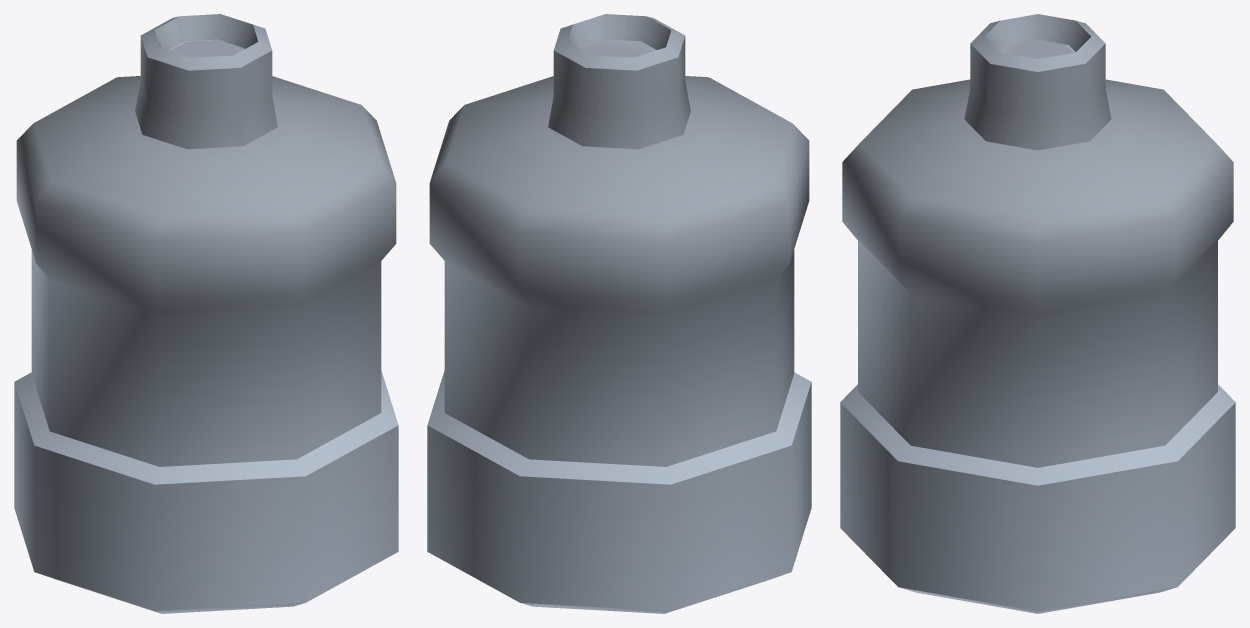
File: Water Tanks.fbx
3 renders of one model, left to right at view 1: azimuth 30°, elevation 25°; view 2: azimuth 150°, elevation 25°; view 3: azimuth 270°, elevation 25°, orthographic.
Parts seen in each view (by area): view 1: Water Tank; view 2: Water Tank; view 3: Water Tank.
Part boxes in pixels (x1,y1,x2,y2): Water Tank: (14,14,398,613); Water Tank: (427,14,811,613); Water Tank: (840,14,1235,613).
Bounding box in the file's own units: 0.7191 × 1.01 × 0.7191.
1 material, 1 textured.
